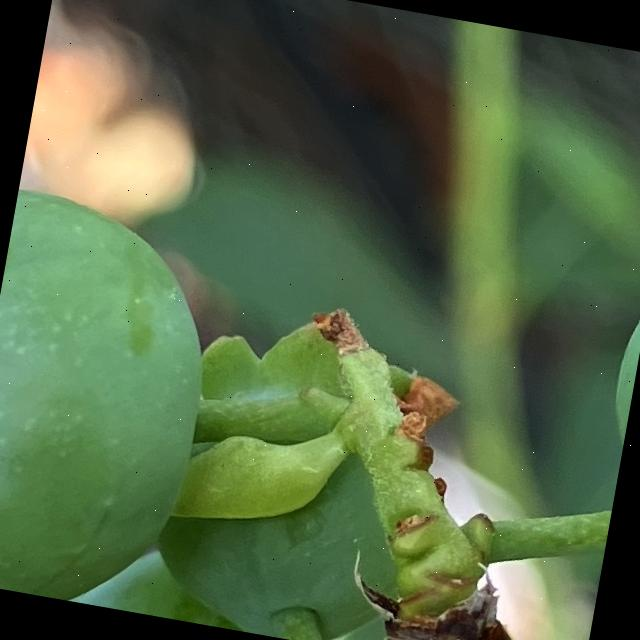Blueberries: (0, 179, 240, 618)
